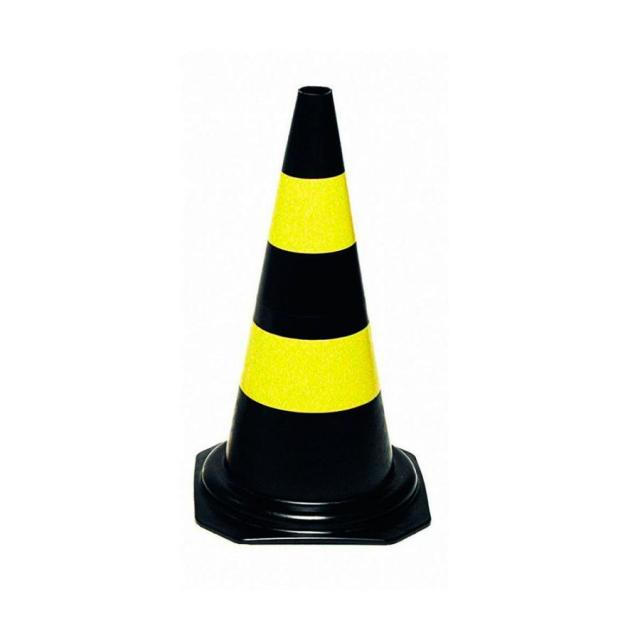cone: (86, 61, 577, 596)
